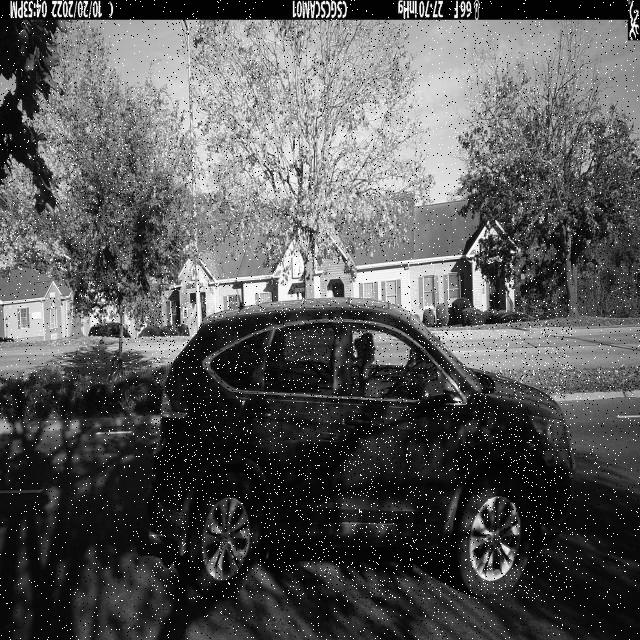SUV: (150, 300, 573, 600)
